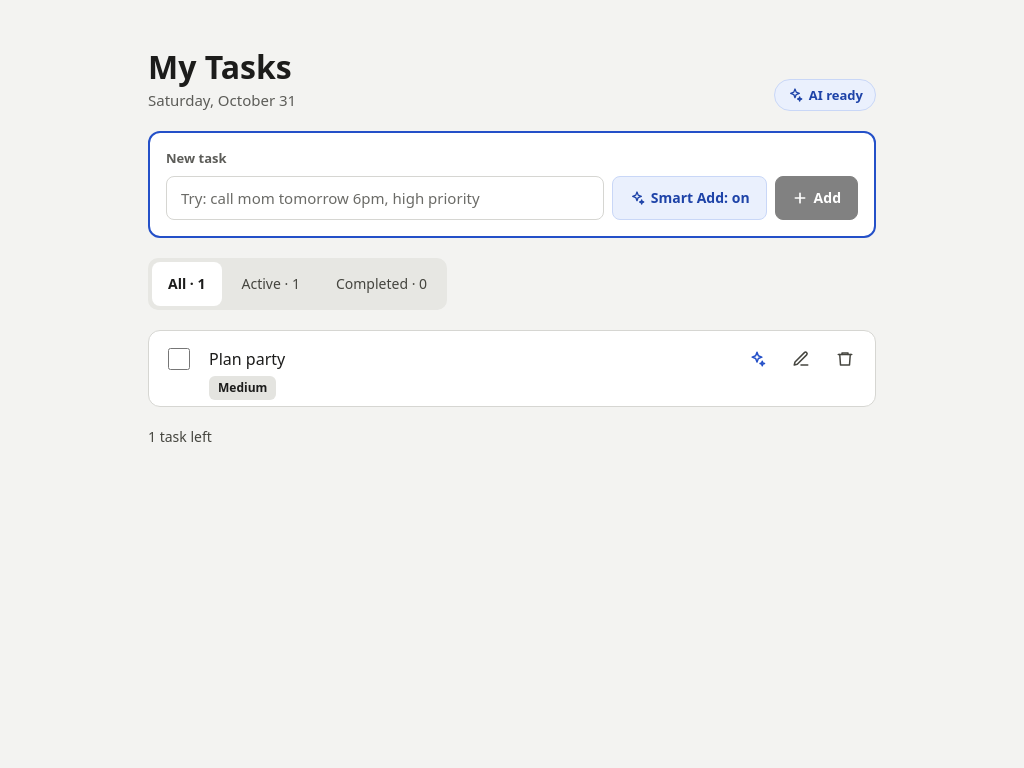
Test: Break it down › shows the error and closes with Escape
Click the button named "Break down \"Plan party\" with AI" at (757, 359), box [735, 337, 779, 381]
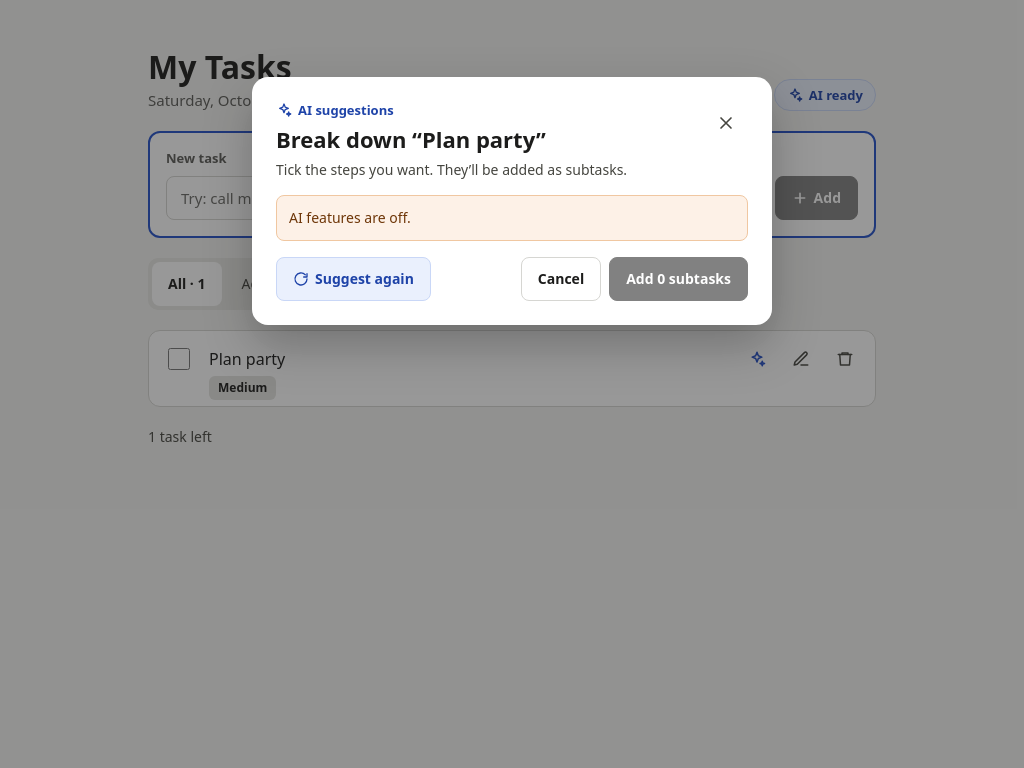
Result: the message reads "AI features are off." at [289, 208, 411, 227]
Result: the button "Add 0 subtasks" is disabled at [609, 257, 748, 301]
Press Escape
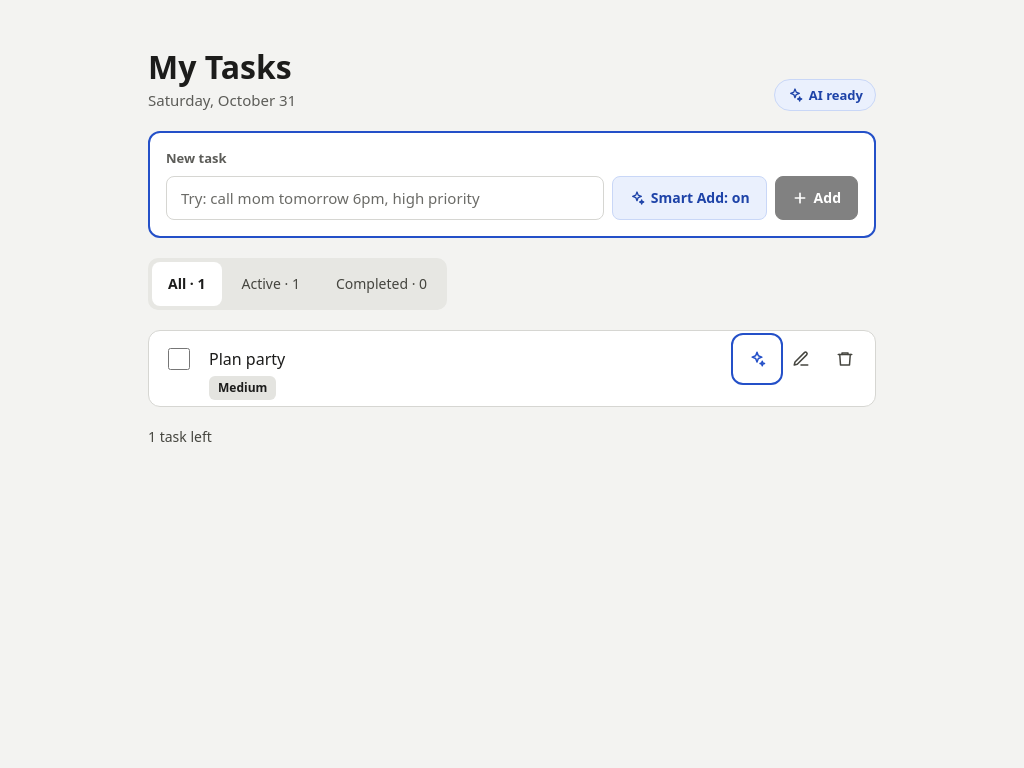
Result: the dialog is gone
